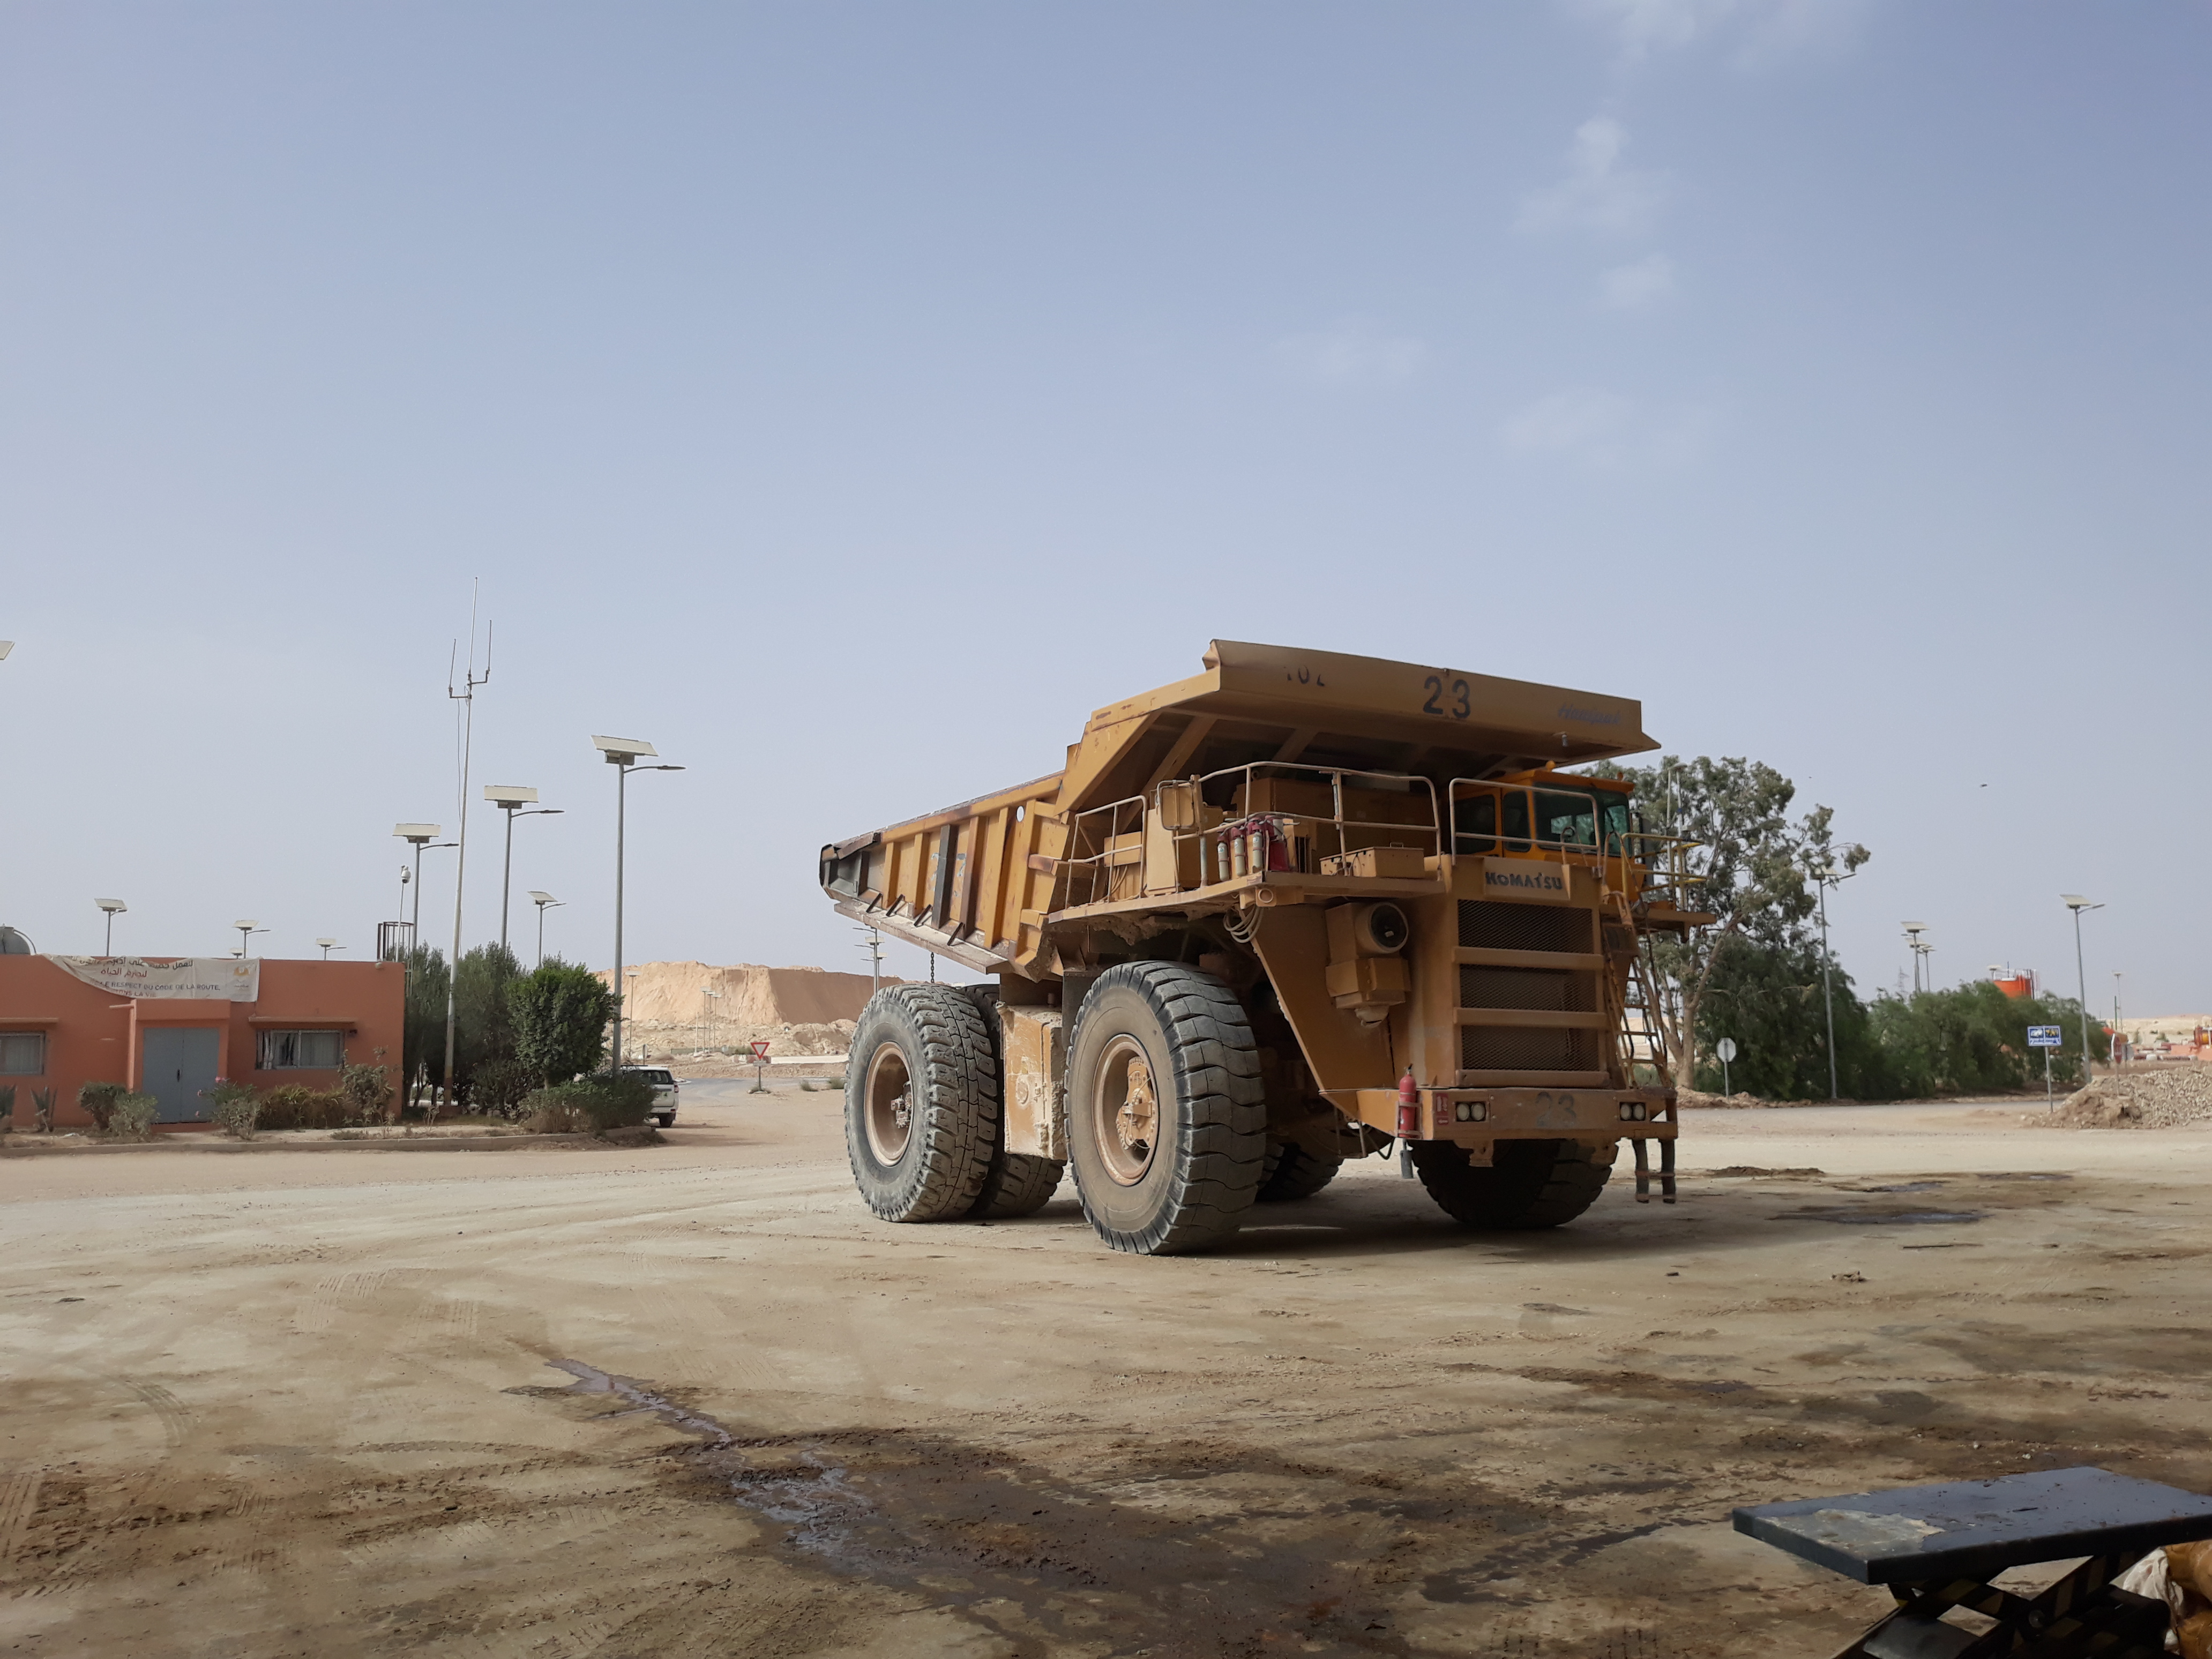camion: (813, 624, 1745, 1288)
car: (589, 1058, 688, 1145)
